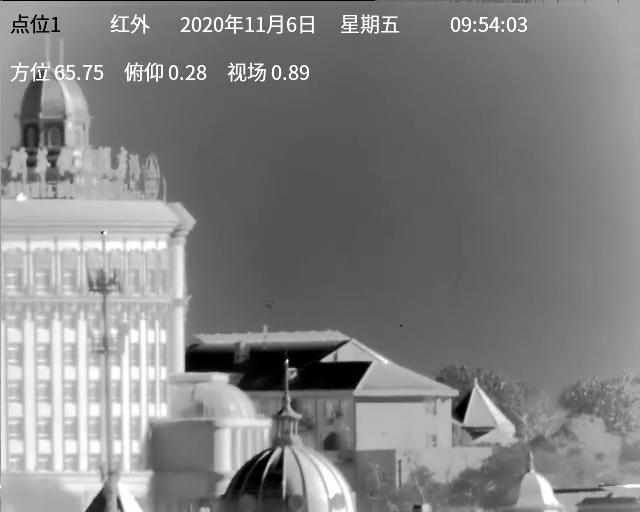uav: (265, 299, 277, 309)
